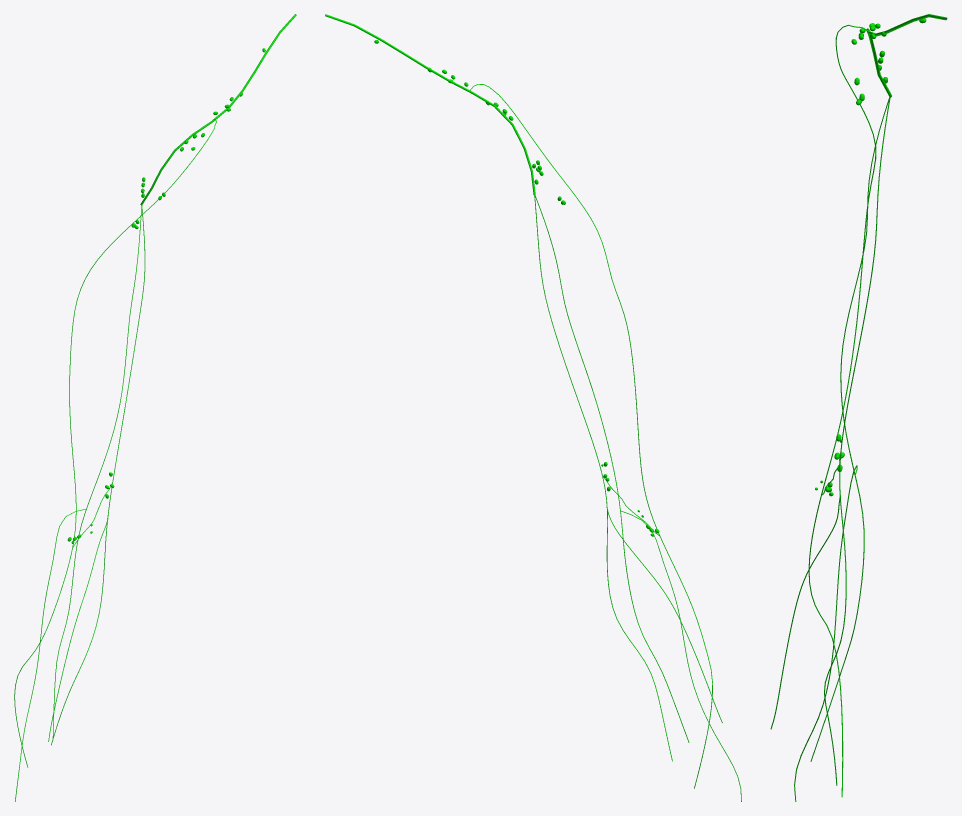
Rendered from Upper limb Lymphatic.fbx.
3 renders of one model, left to right at view 1: azimuth 30°, elevation 25°; view 2: azimuth 150°, elevation 25°; view 3: azimuth 270°, elevation 25°, orthographic. The views are drawn at different scales.
Parts seen in each view (by area): view 1: Ulnar_group_of_lymph_vessels, Radial_group_of_lymph_vessels, Subclavian_trunk; view 2: Ulnar_group_of_lymph_vessels, Radial_group_of_lymph_vessels, Subclavian_trunk; view 3: Ulnar_group_of_lymph_vessels, Radial_group_of_lymph_vessels, Subclavian_trunk.
Part boxes in pixels (x1=…): Ulnar_group_of_lymph_vessels: x1=48, y1=205, x2=145, y2=745; Radial_group_of_lymph_vessels: x1=14, y1=119, x2=216, y2=801; Subclavian_trunk: x1=140, y1=14, x2=296, y2=205; Ulnar_group_of_lymph_vessels: x1=534, y1=195, x2=722, y2=761; Radial_group_of_lymph_vessels: x1=470, y1=84, x2=741, y2=801; Subclavian_trunk: x1=325, y1=14, x2=535, y2=194; Ulnar_group_of_lymph_vessels: x1=770, y1=97, x2=890, y2=785; Radial_group_of_lymph_vessels: x1=794, y1=24, x2=876, y2=801; Subclavian_trunk: x1=866, y1=14, x2=947, y2=97.
Size of the model in its own units: 29.64 by 57.63 by 8.96.
